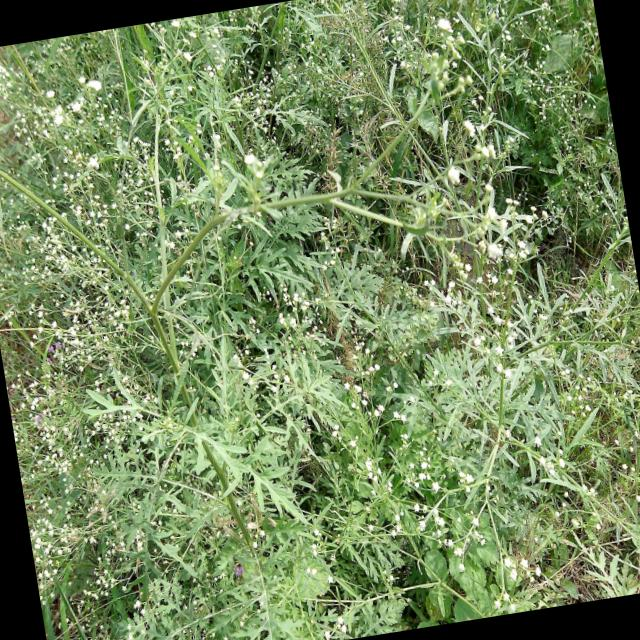Poisonous-Parthenium: (0, 29, 362, 640), (315, 0, 640, 608)
